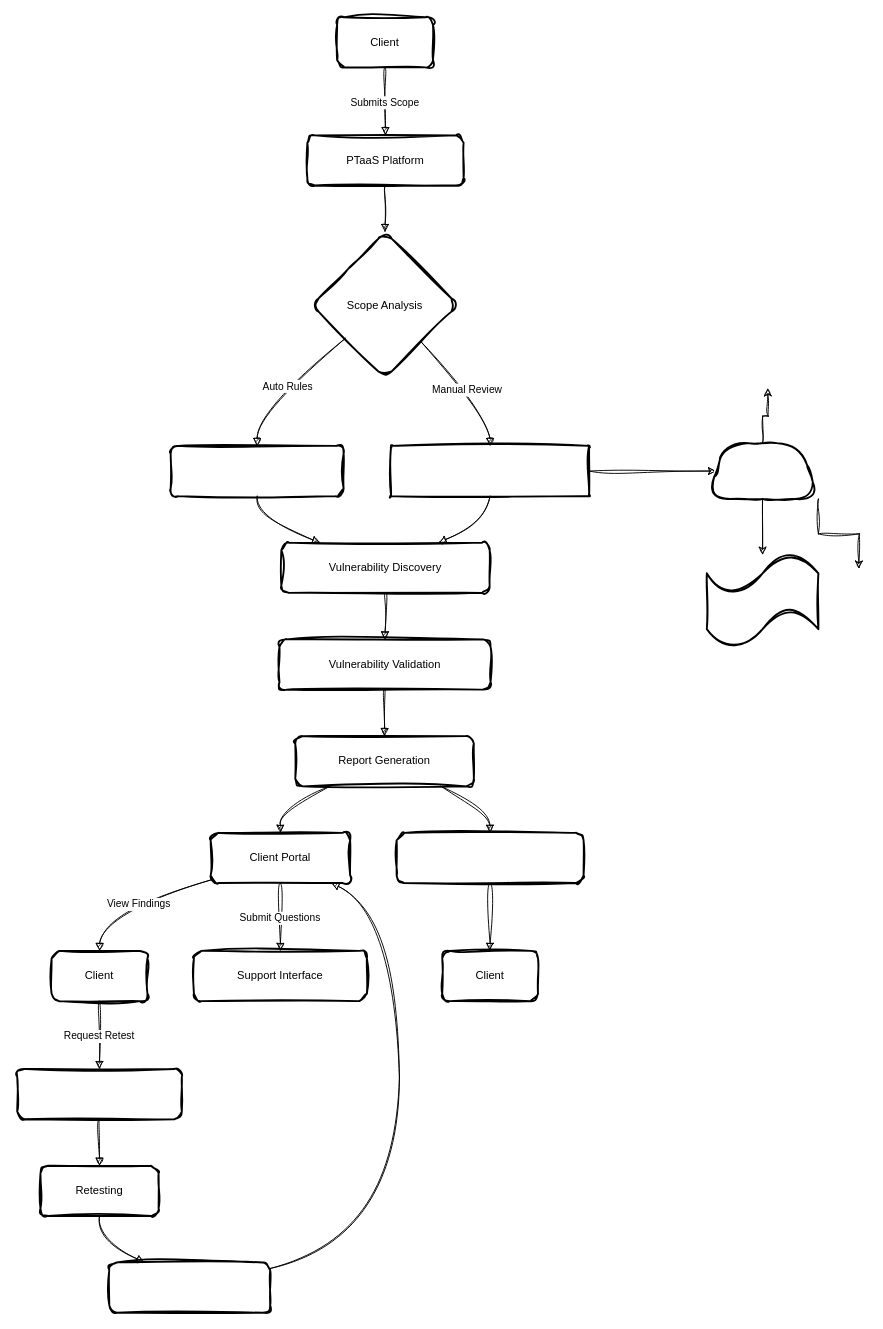
Some shapes in this 883 by 1329 pixel diagram are drawn without their labels. Each missing label, with the centre of its shape:
Automated Recon: point (256, 471)
Pentester Assignment: point (490, 471)
Remediation Advice: point (489, 857)
Retesting Queue: point (99, 1094)
Updated Report: point (189, 1287)
